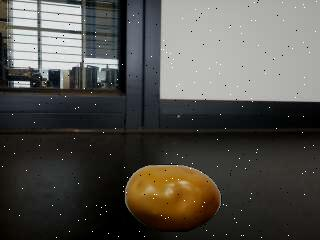Capsicum: (124, 164, 220, 232)
